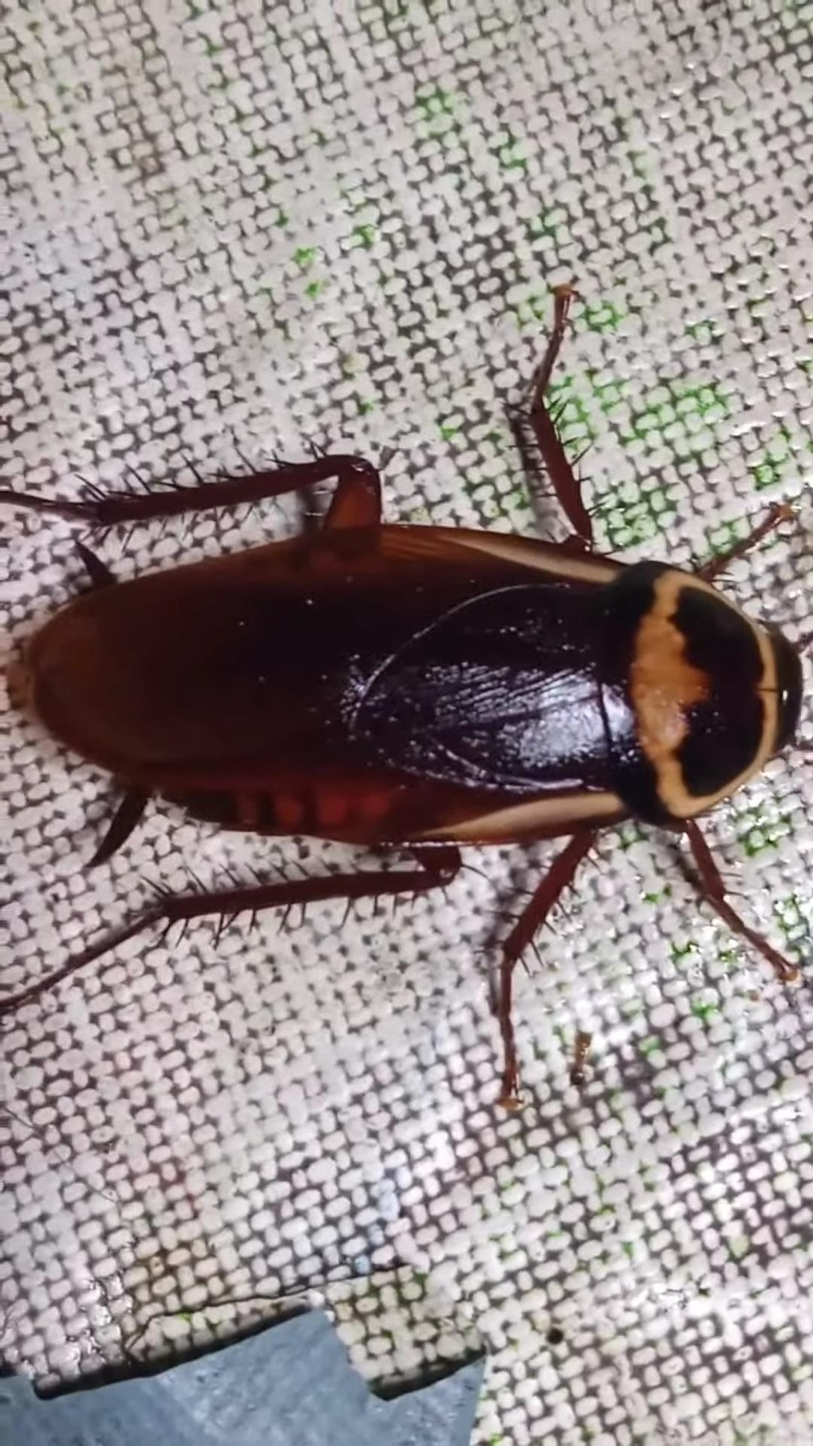cockroach: (0, 276, 813, 1127)
